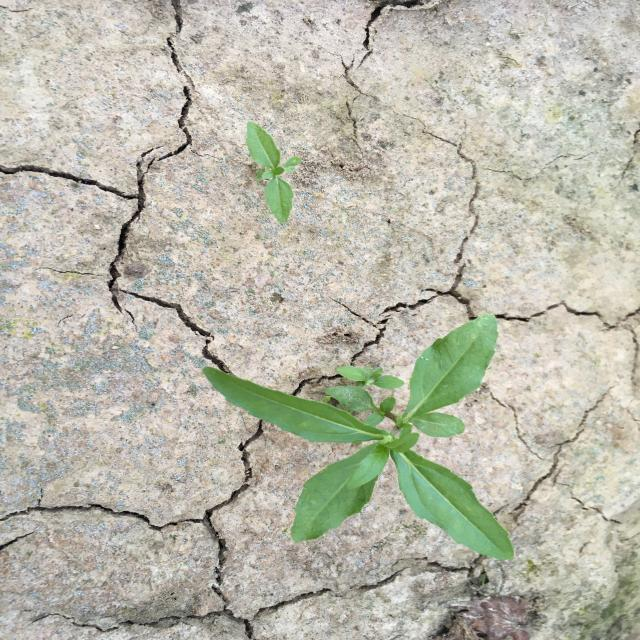Eclipta: (200, 312, 517, 562), (245, 120, 303, 224)
